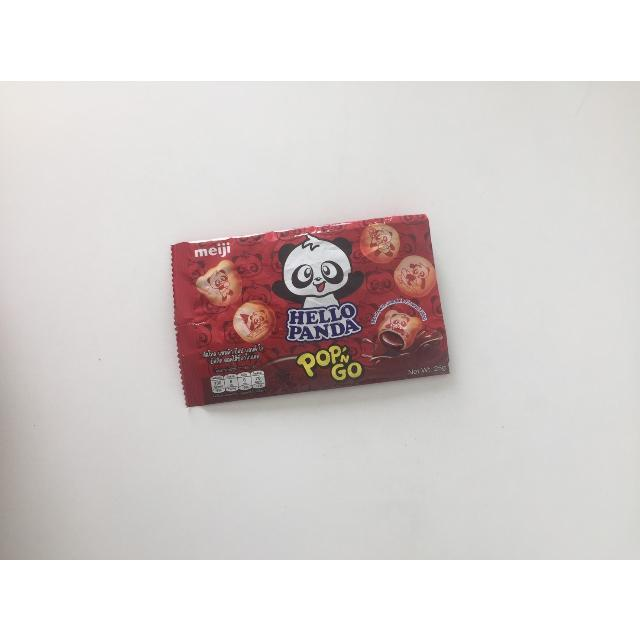Bolsa-de-plastico: (172, 235, 462, 395)
